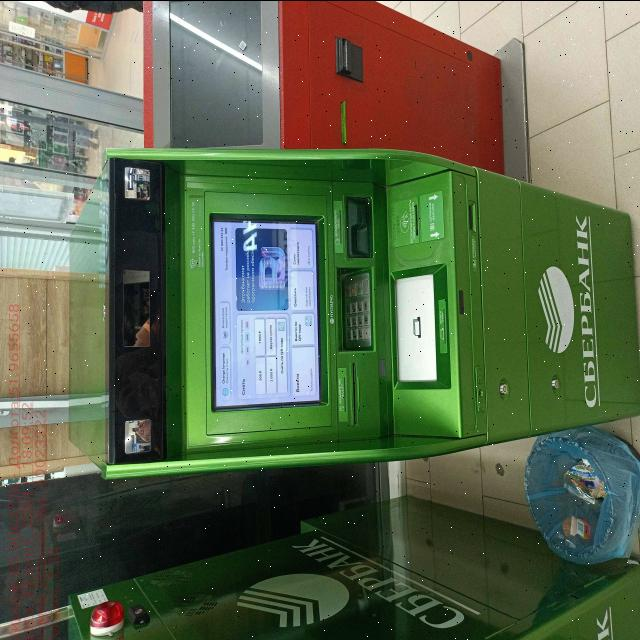bank: (70, 148, 640, 474), (47, 484, 640, 640)
